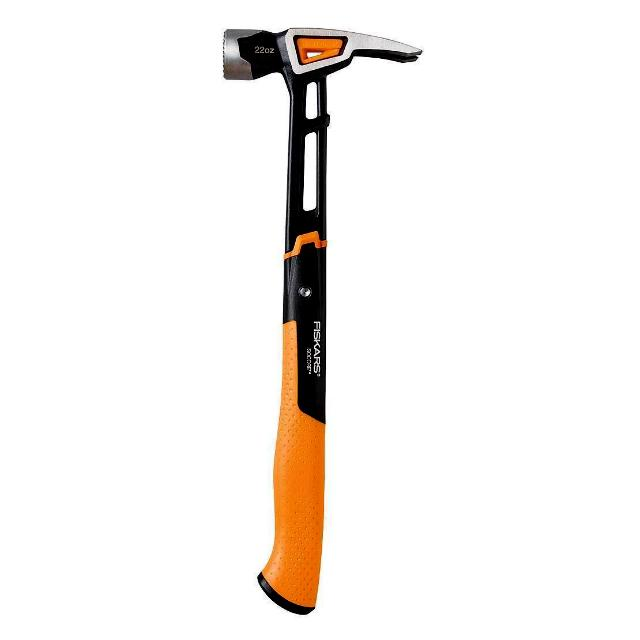hammer: (214, 15, 428, 622)
